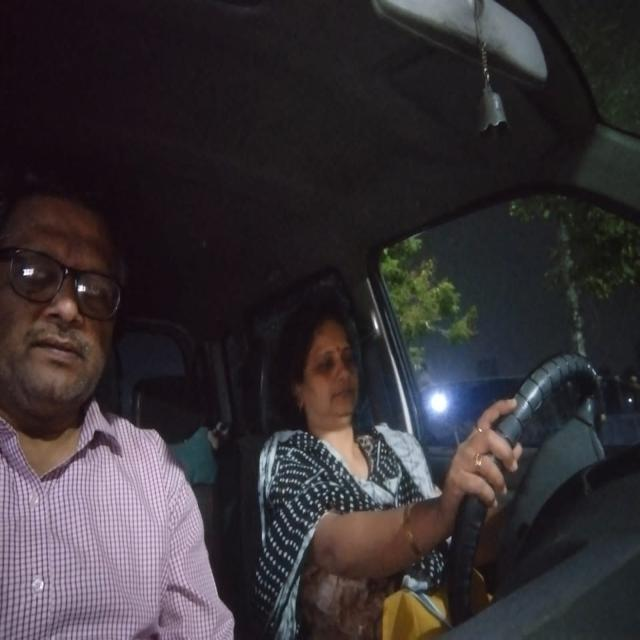drowsy: (288, 287, 373, 442)
person: (0, 165, 128, 447)
